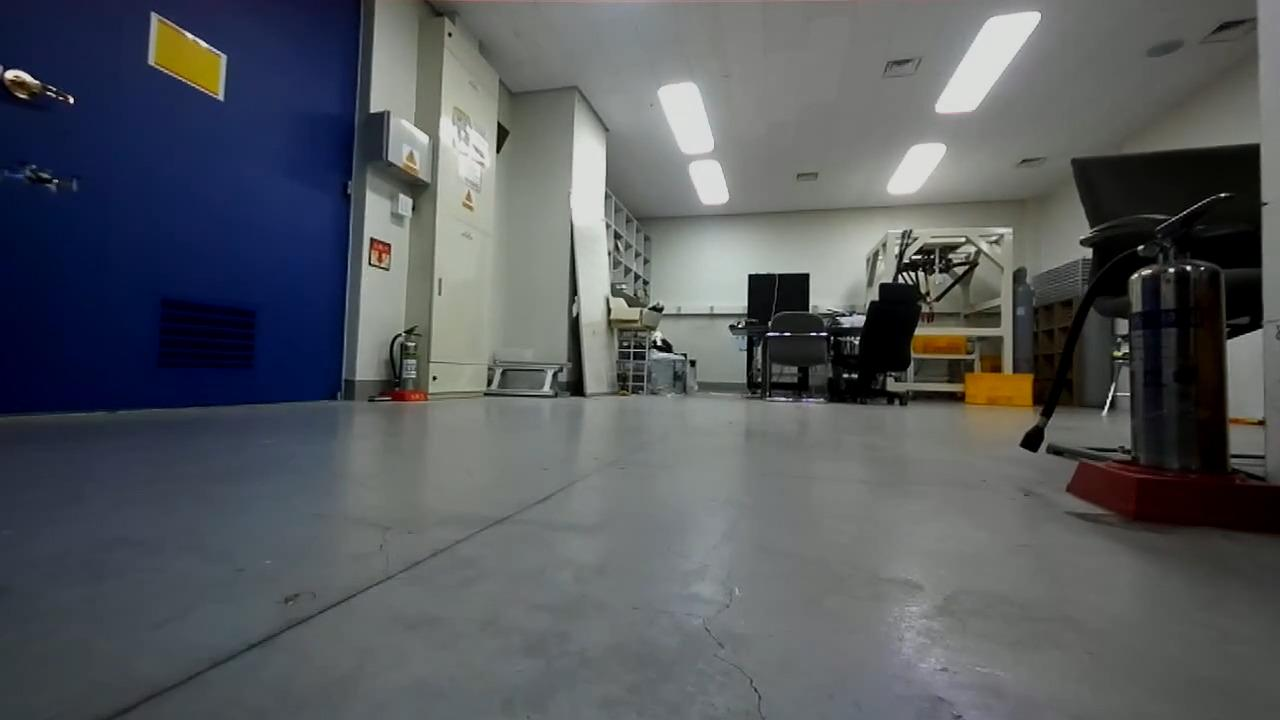crazyflie: (3, 156, 80, 196)
